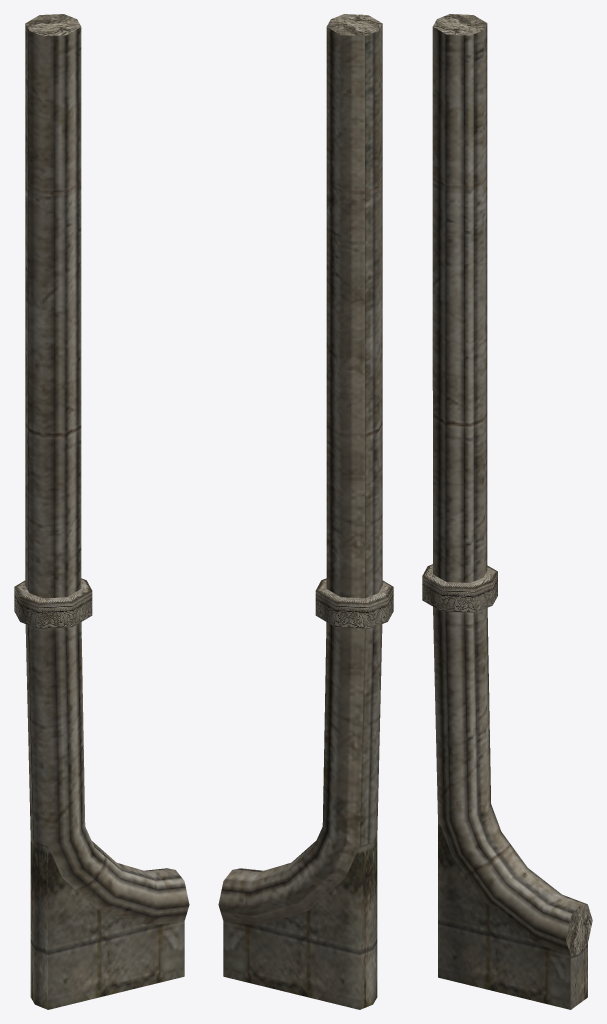
The model's file is SM_Plains_CastleWall_Support_02.FBX.
The picture shows the model from 3 angles, left to right: view 1: azimuth 30°, elevation 25°; view 2: azimuth 150°, elevation 25°; view 3: azimuth 330°, elevation 25°; orthographic projection. The views are drawn at different scales.
Visible parts, largest first — view 1: SM_Plains_CastleWall_Support_02; view 2: SM_Plains_CastleWall_Support_02; view 3: SM_Plains_CastleWall_Support_02.
Part boxes in pixels (left/top/right/bottom): SM_Plains_CastleWall_Support_02: left=14, top=14, right=189, bottom=1009; SM_Plains_CastleWall_Support_02: left=218, top=14, right=393, bottom=1009; SM_Plains_CastleWall_Support_02: left=422, top=14, right=592, bottom=1009.
Bounding box in the file's own units: 41.15 × 246 × 17.36.
